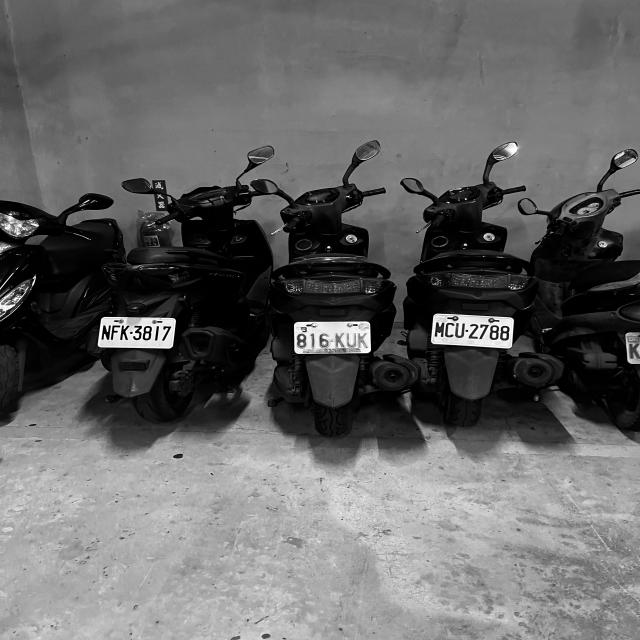-: (129, 330, 133, 334), (330, 338, 334, 342), (465, 329, 469, 332)
1: (308, 332, 316, 348), (154, 325, 160, 341)
2: (468, 322, 478, 340)
3: (134, 326, 142, 340)
6: (318, 332, 332, 348)
7: (161, 325, 171, 341), (479, 324, 489, 339)
8: (296, 332, 308, 348), (489, 324, 499, 340), (142, 326, 152, 340), (501, 325, 508, 341)
C: (445, 322, 454, 337)
F: (110, 324, 120, 340)
K: (356, 332, 370, 349), (628, 343, 640, 360), (334, 332, 344, 348), (120, 324, 129, 341)
M: (434, 321, 444, 337)
N: (100, 324, 110, 340)
U: (345, 332, 357, 348), (455, 322, 465, 338)
plate: (432, 314, 514, 350), (294, 322, 372, 352), (100, 317, 172, 349)
